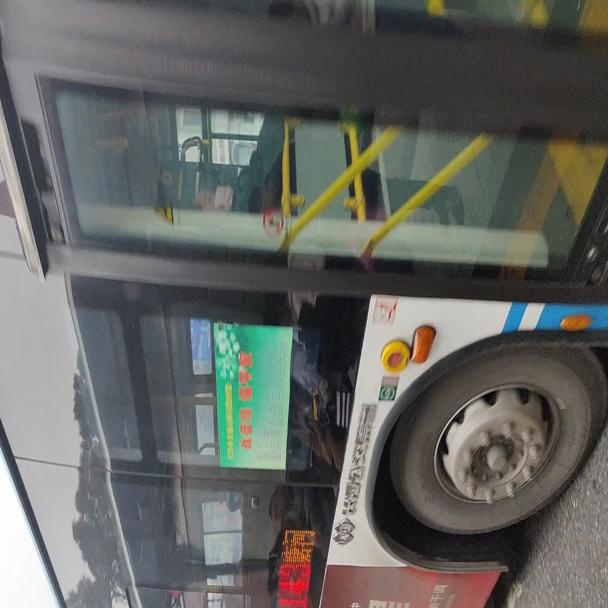bus: (1, 5, 604, 608)
screen: (277, 560, 312, 608)
